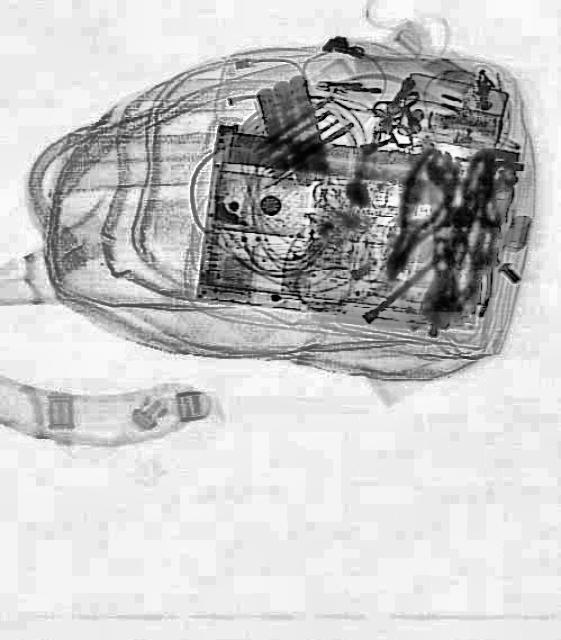Pliers: (368, 142, 468, 288)
